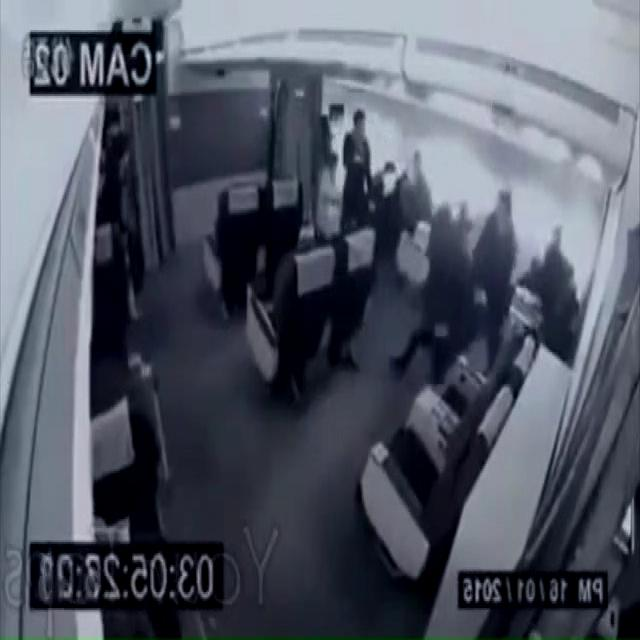fight: (374, 186, 536, 390)
